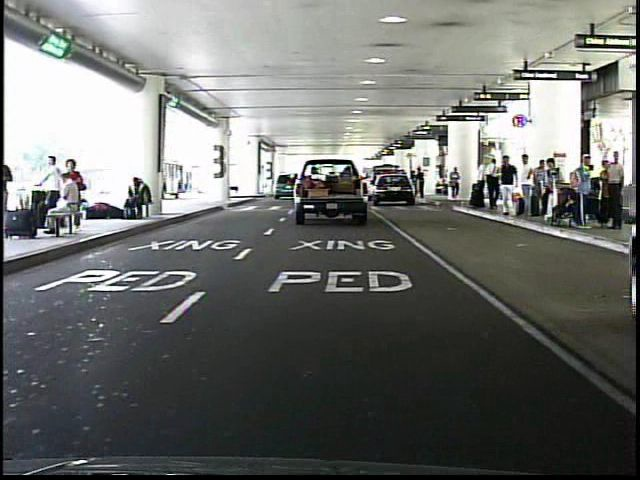person: (516, 152, 538, 220), (498, 153, 521, 218), (468, 154, 490, 213), (447, 165, 463, 203), (416, 166, 428, 202), (409, 167, 418, 200)
